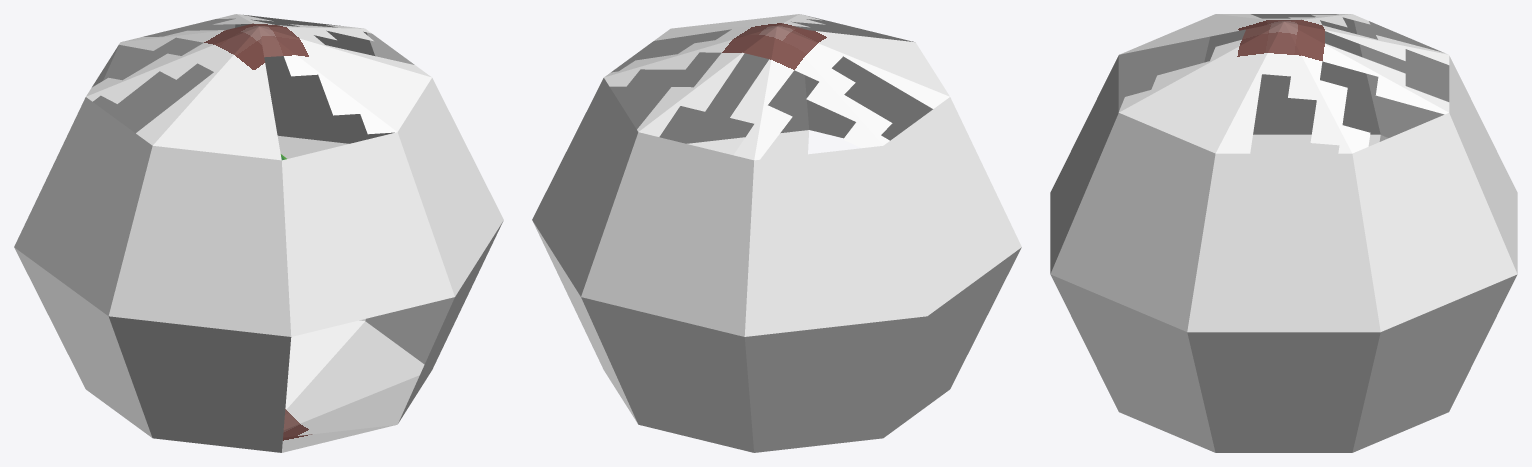
The model's file is Boxy.gltf.
The picture shows the model from 3 angles, left to right: view 1: azimuth 30°, elevation 25°; view 2: azimuth 150°, elevation 25°; view 3: azimuth 270°, elevation 25°; orthographic projection. The views are drawn at different scales.
Parts seen in each view (by area): view 1: Ball; view 2: Ball; view 3: Ball.
Boxes of the visible parts, left/top/right/bottom form: Ball: left=14, top=14, right=503, bottom=452; Ball: left=532, top=14, right=1021, bottom=452; Ball: left=1050, top=14, right=1517, bottom=452.
Bounding box in the file's own units: 1 × 1 × 1.
Materials: 1 (1 with a texture image).
